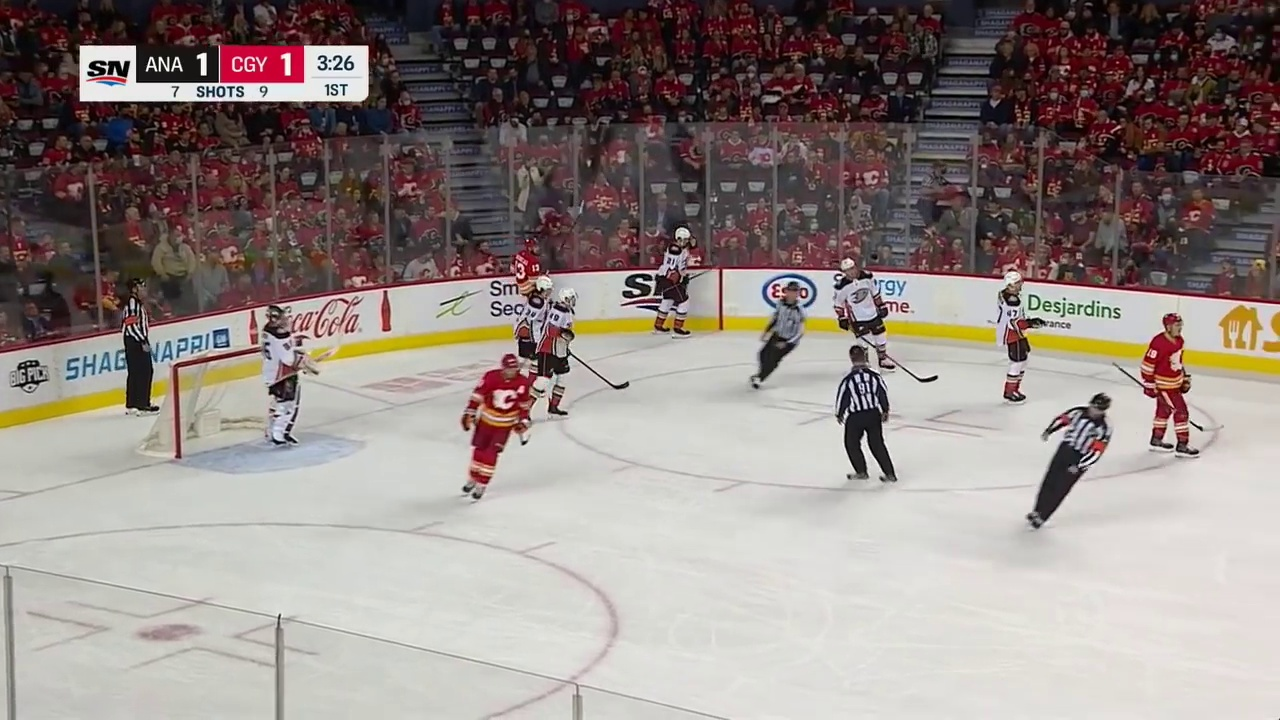goalie: (261, 303, 319, 448)
hockeyplayer: (461, 353, 532, 503), (1139, 313, 1200, 459), (831, 257, 896, 373), (995, 271, 1046, 405), (529, 287, 578, 419), (652, 226, 691, 339), (513, 277, 554, 371)
referee: (1026, 393, 1113, 531), (835, 345, 897, 484), (748, 281, 806, 390), (121, 278, 160, 417)
